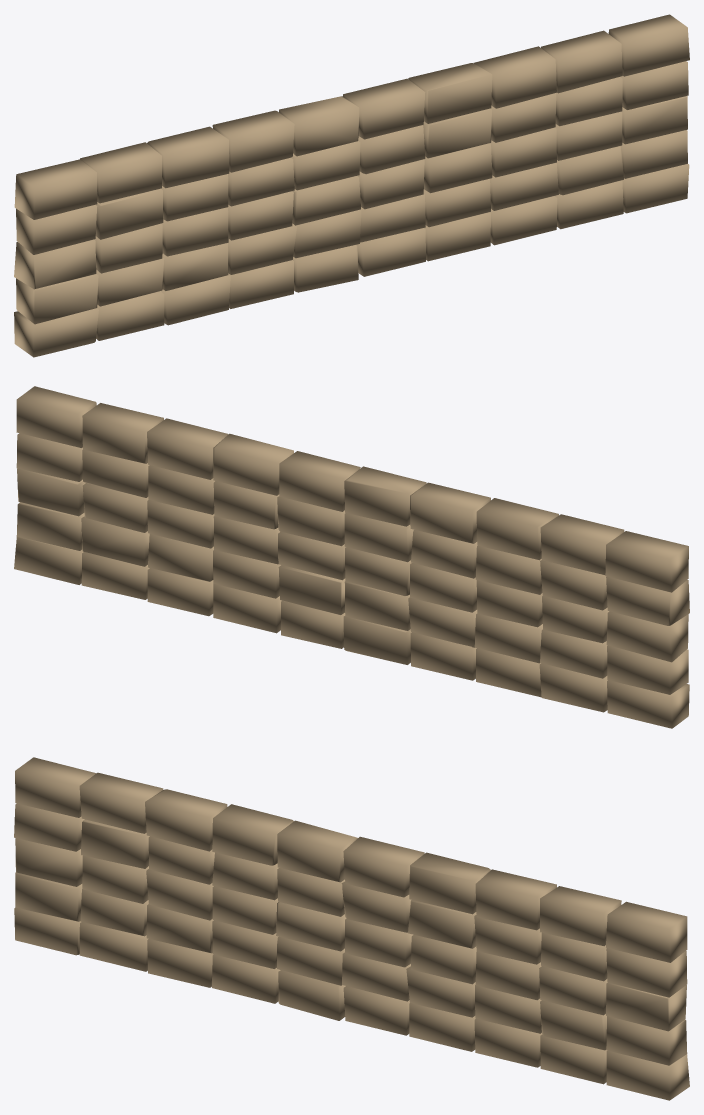
The model's file is fence.fbx.
3 views of the same model, one above another, from view 1: azimuth 30°, elevation 25°; view 2: azimuth 150°, elevation 25°; view 3: azimuth 330°, elevation 25° (orthographic).
Parts seen in each view (by area): view 1: Cube; view 2: Cube; view 3: Cube.
Part boxes in pixels (x1,y1,x2,y2): Cube: (14,14,689,357); Cube: (14,386,689,728); Cube: (14,757,689,1100).
Bounding box in the file's own units: 2004 × 502 × 103.
